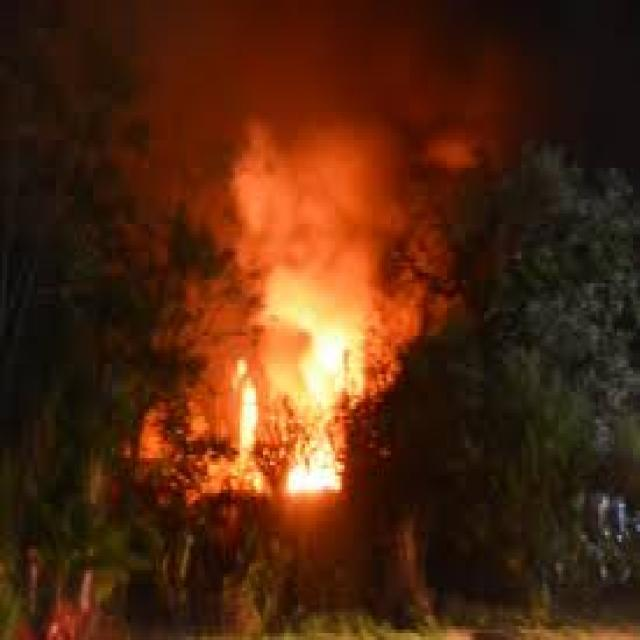Fire: (225, 276, 358, 504)
Smoke: (96, 10, 473, 272)
